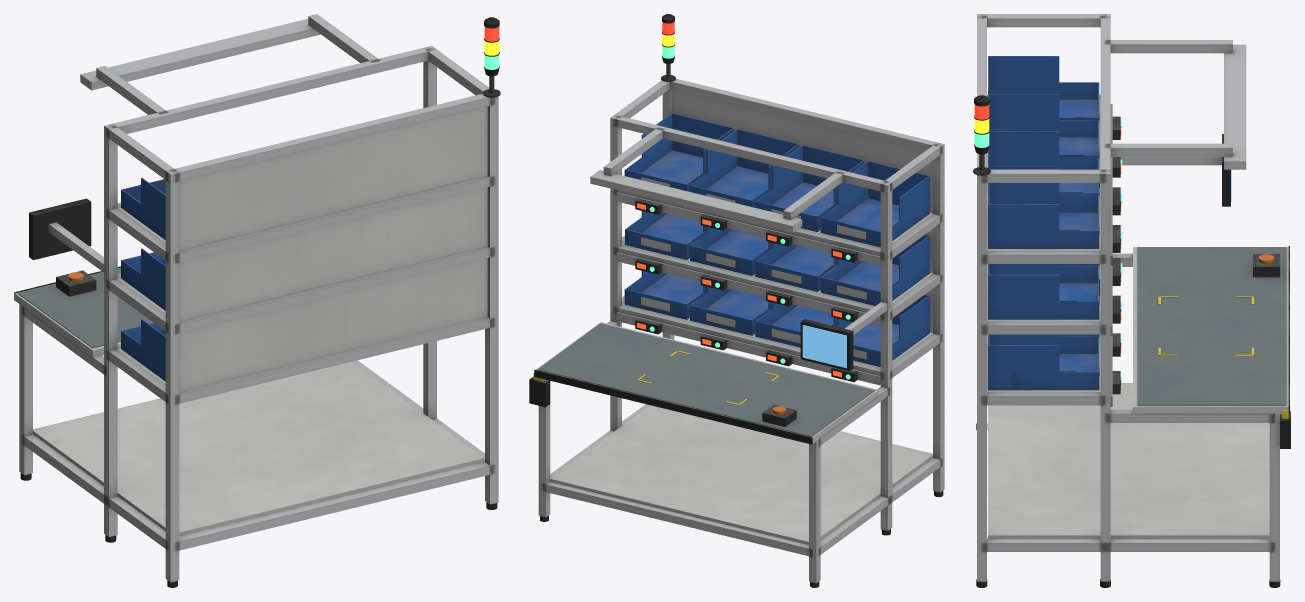
The model's file is PickingStation.fbx.
3 renders of one model, left to right at view 1: azimuth 30°, elevation 25°; view 2: azimuth 150°, elevation 25°; view 3: azimuth 270°, elevation 25°, orthographic. The views are drawn at different scales.
Parts seen in each view (by area): view 1: Body_LOD0; view 2: Body_LOD0, PickLights_LOD0; view 3: Body_LOD0, Beacon_LOD0.
Part boxes in pixels (box(x1,y1,x2,y2)): Body_LOD0: box(14, 14, 498, 587); Body_LOD0: box(529, 78, 944, 587); PickLights_LOD0: box(637, 203, 850, 379); Body_LOD0: box(976, 14, 1290, 587); Beacon_LOD0: box(973, 95, 990, 175).
Size of what is drawn, in the model's own units: 1.81 by 2.42 by 1.43.
1 material, 1 textured.
